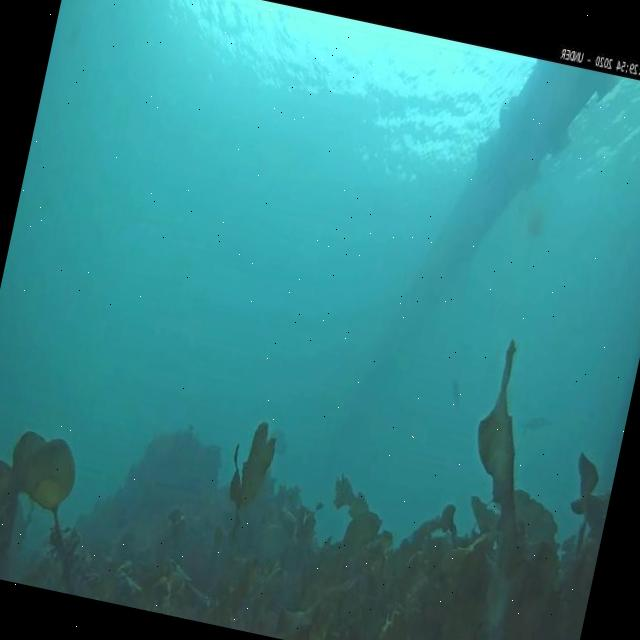fish: (519, 408, 549, 436), (447, 378, 466, 407)
